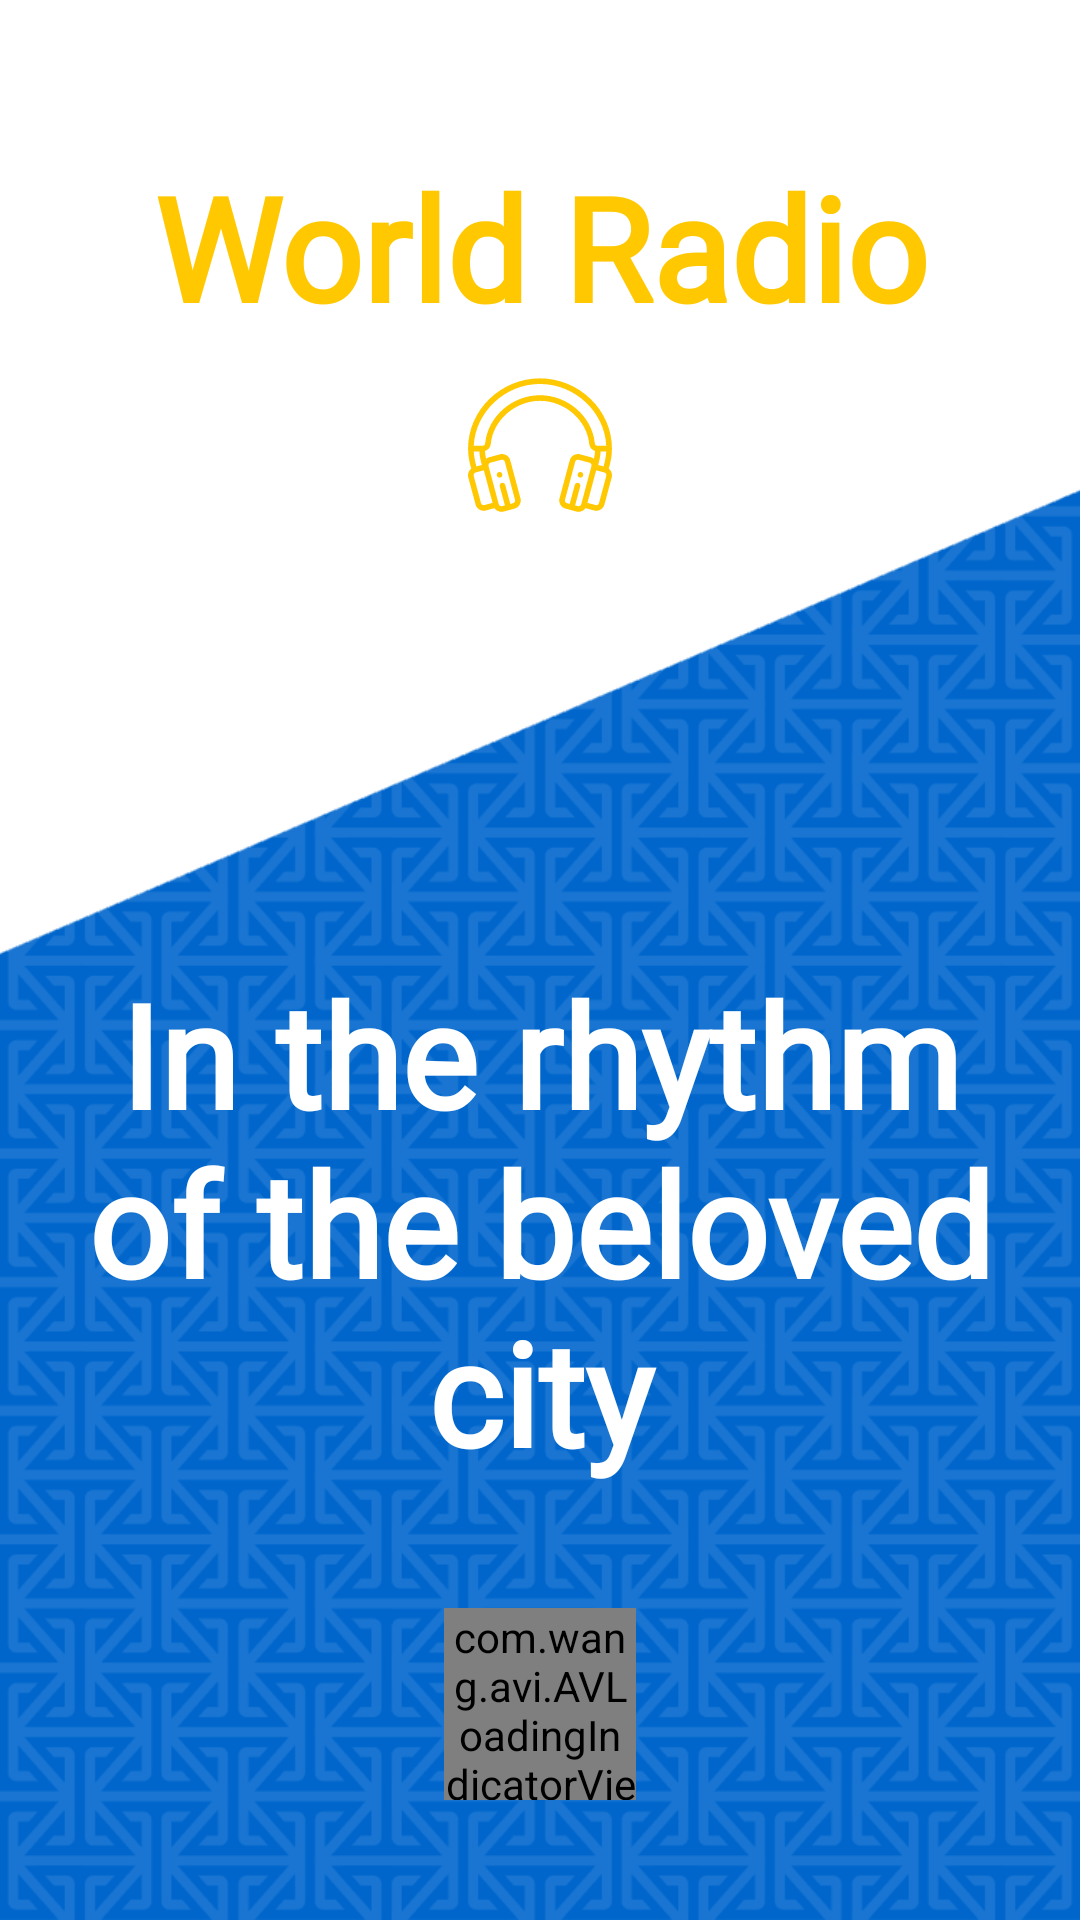

Icon bounding boxes for this 1080px x 1920px phone screenshot, format (x1, y1, x2, y2):
headphones: (468, 378, 612, 512)
